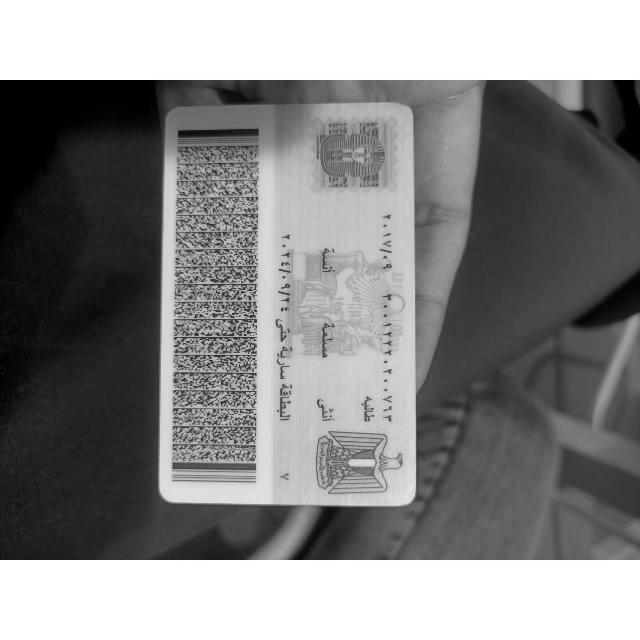id_card: (158, 102, 416, 506)
